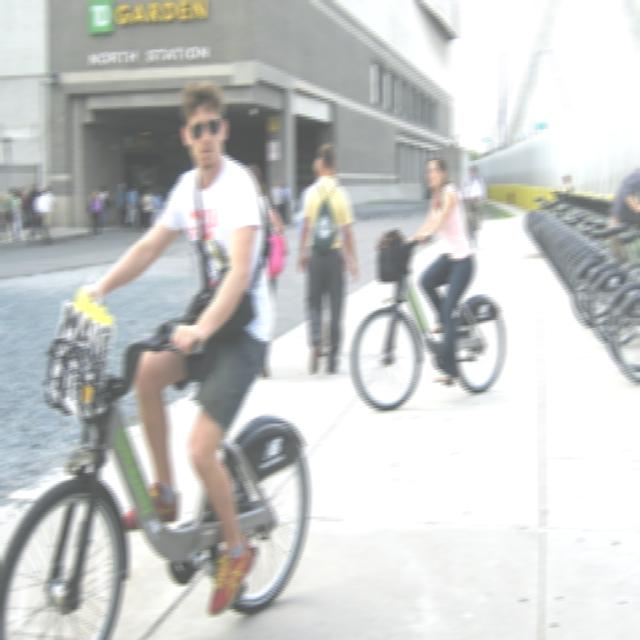Without Helmet: (170, 72, 231, 176), (418, 147, 454, 194)
